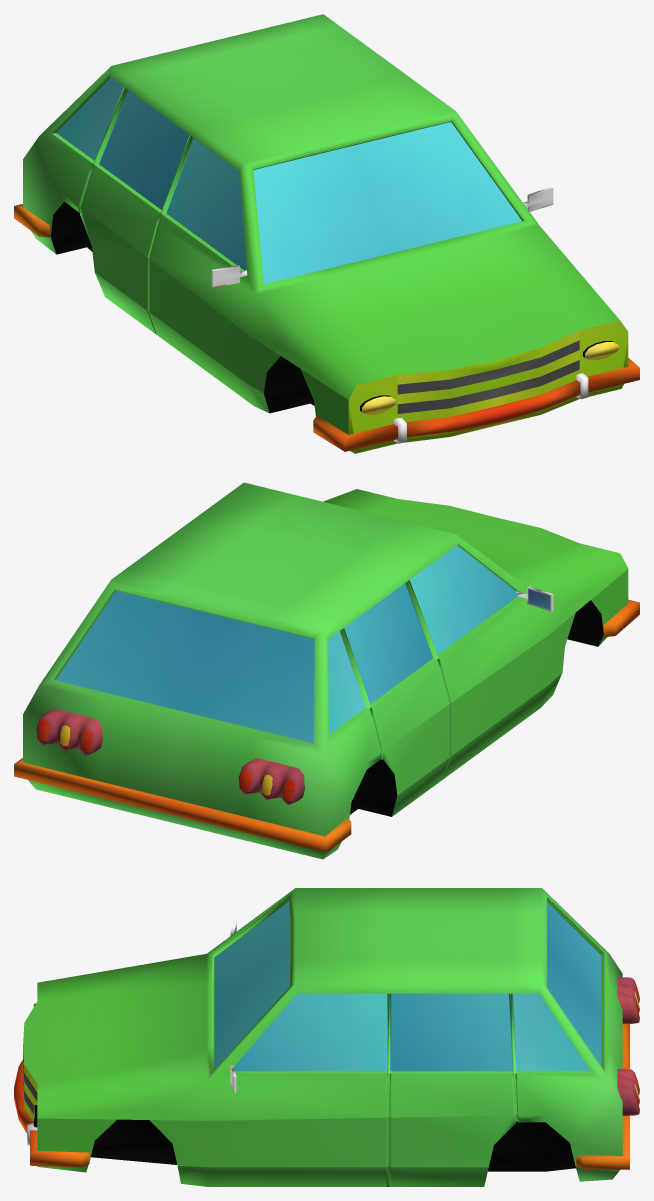
Rendered from Car_5.fbx.
3 renders of one model, top to bottom at view 1: azimuth 30°, elevation 25°; view 2: azimuth 150°, elevation 25°; view 3: azimuth 270°, elevation 25°, orthographic. The views are drawn at different scales.
Parts seen in each view (by area): view 1: Car_5; view 2: Car_5; view 3: Car_5.
Boxes of the visible parts, box(x1,y1,x2,y2) form: Car_5: box(14, 14, 639, 453); Car_5: box(14, 482, 639, 859); Car_5: box(14, 888, 639, 1186).
Size of the model in its own units: 249 by 139 by 425.
1 material, 1 textured.
